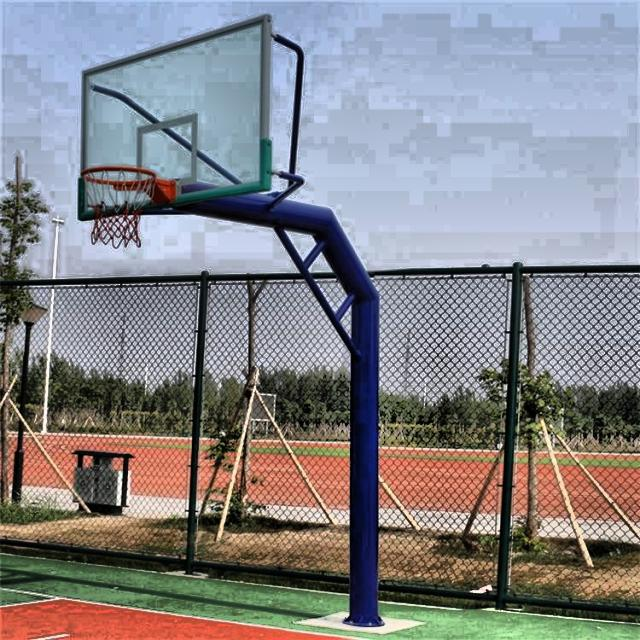rim: (77, 166, 157, 249)
